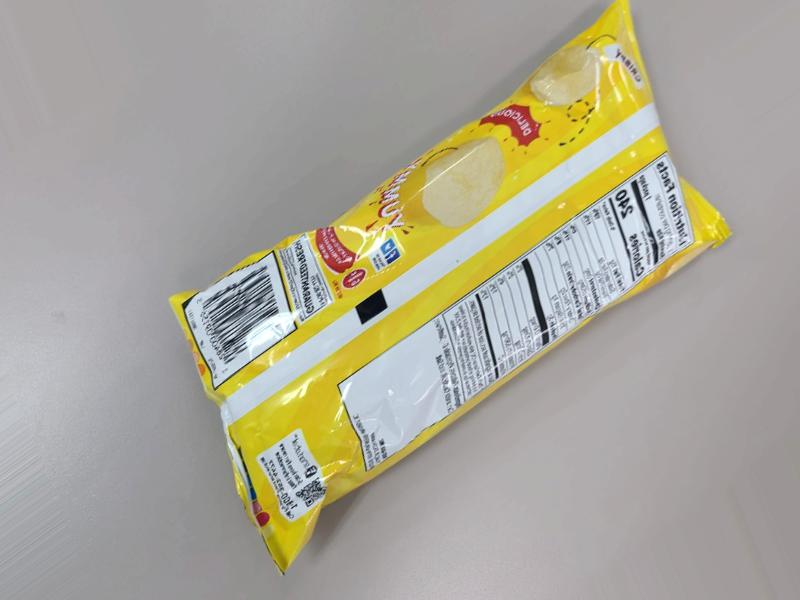lays: (171, 77, 800, 573)
